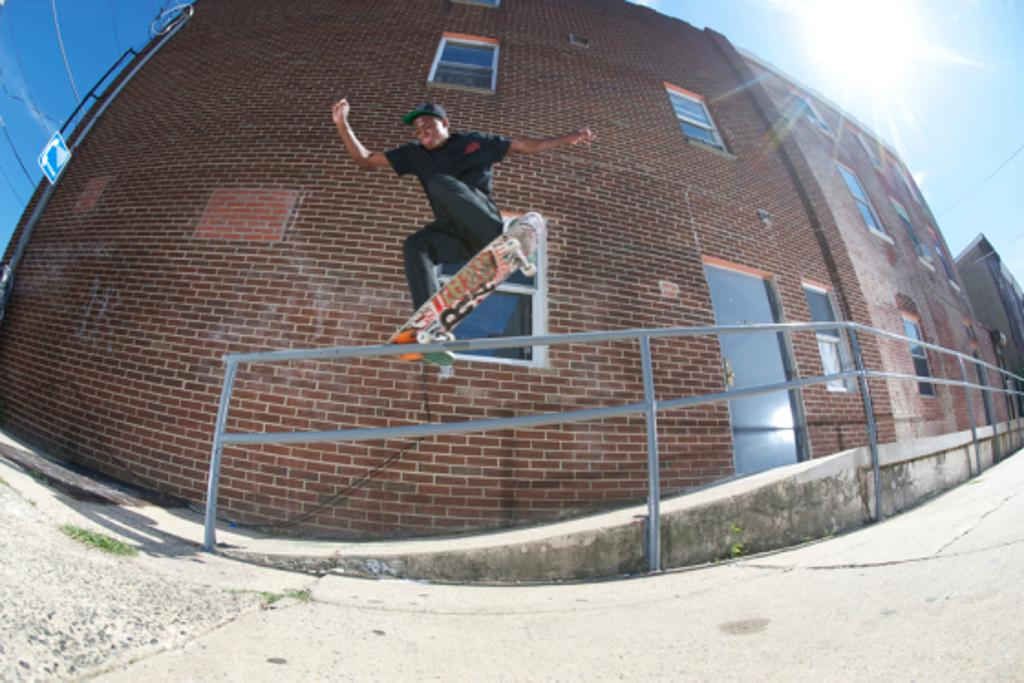face: (413, 117, 443, 149)
